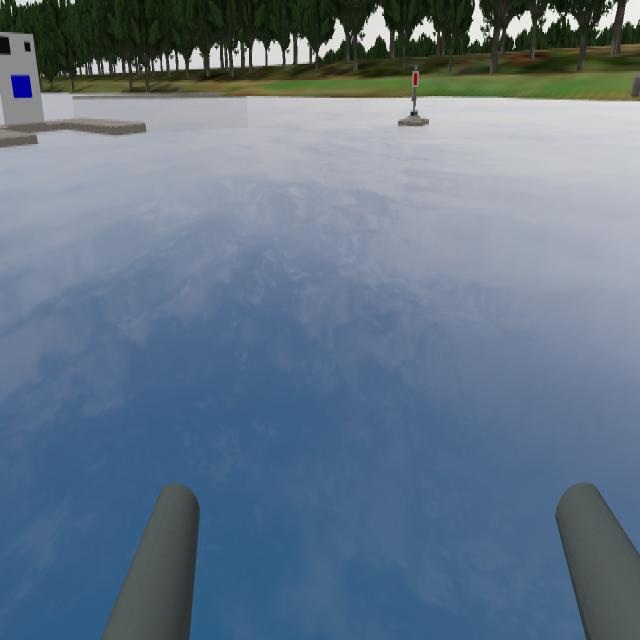red_pole: (407, 61, 427, 89)
